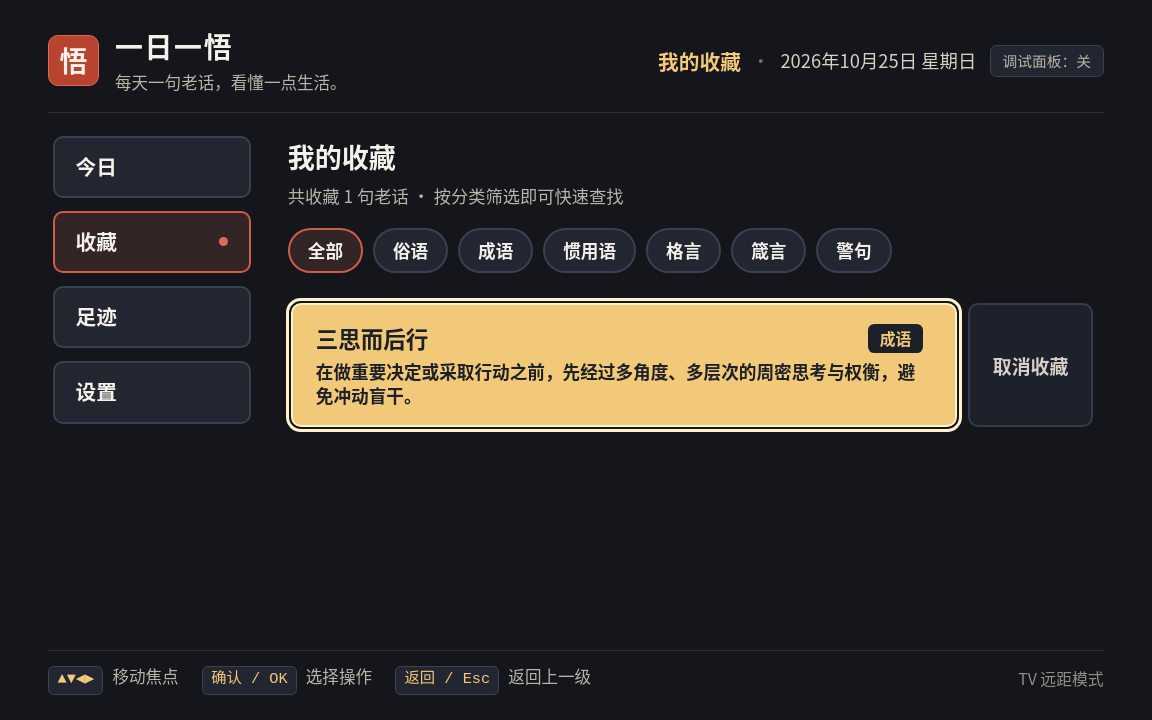
Test: 全流程遥控器操作闭环 (App Integration) › 延伸阅读卡片直接跳转，遥控器跟随单列或双列布局（?tv=1，1 列）
The image size is (1152, 720).
Click the button "三思而后行 成语 在做重要决定或采取行动之前，先经过多角度、多层次的周密思考与权衡，避免冲动盲干。" at (624, 365), box [291, 303, 957, 427]
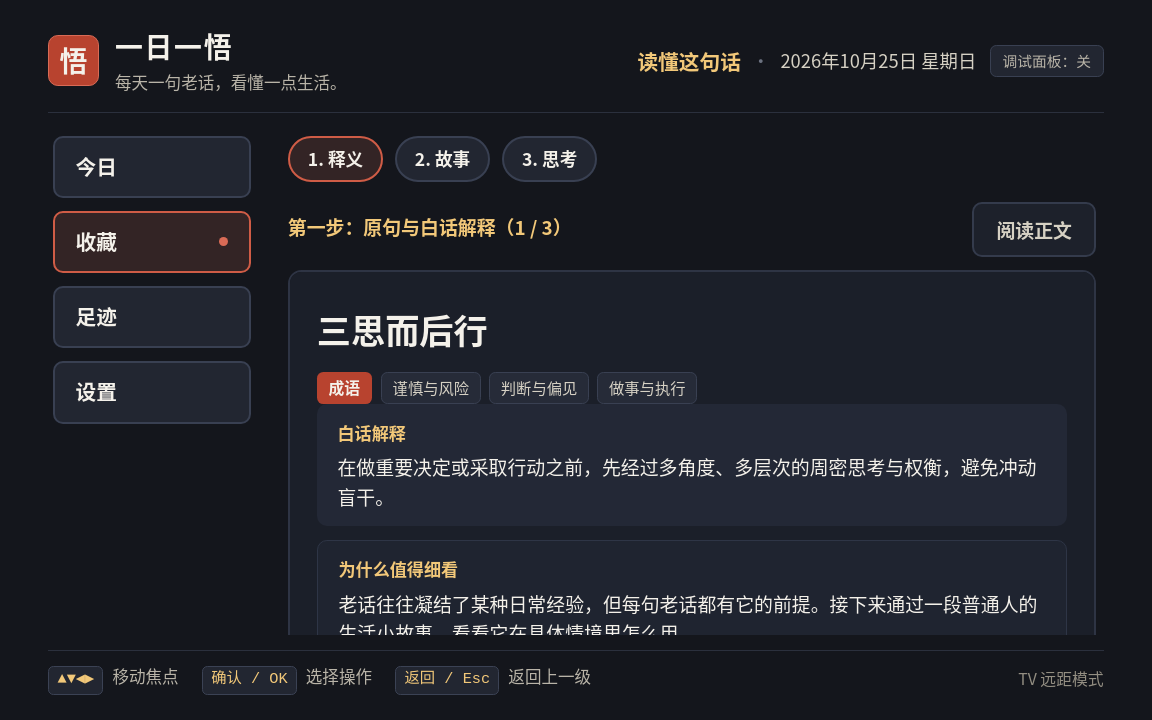
Click the button "3. 思考" at (550, 159), box [502, 136, 597, 182]
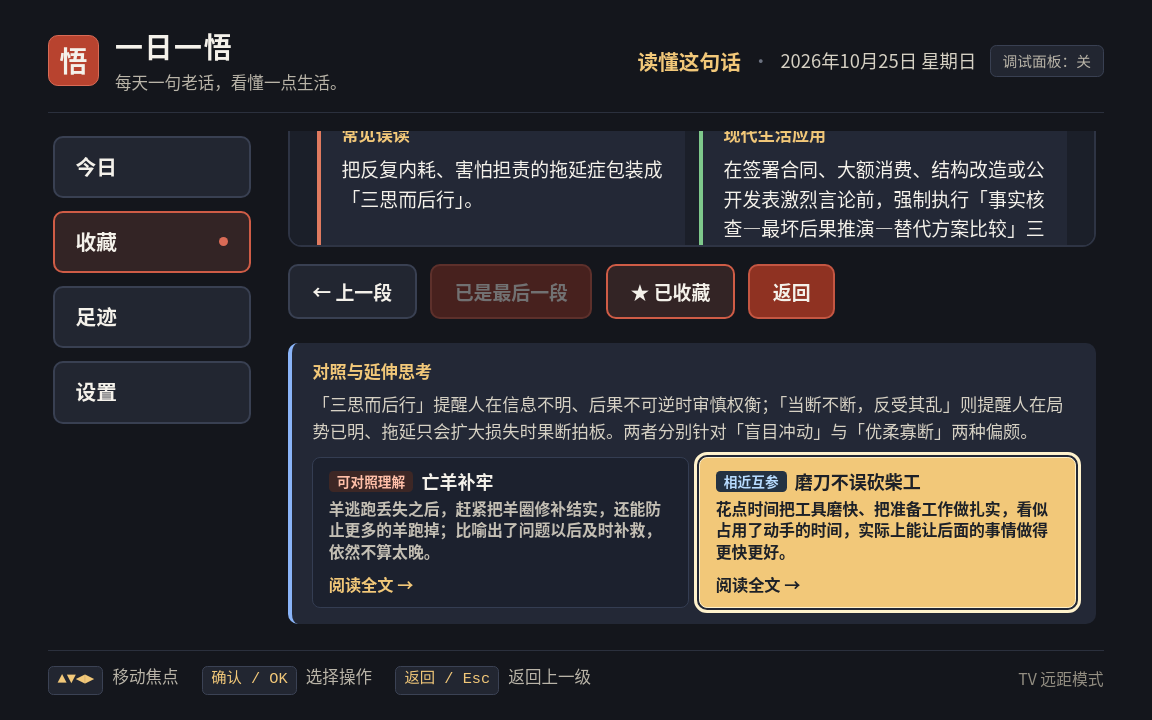
Expected: the number of buttons with class "relation-card" is 2
Click the button with class "relation-card" that starts with "相近互参" at (888, 532), box [700, 456, 1076, 608]
(page scrolled)
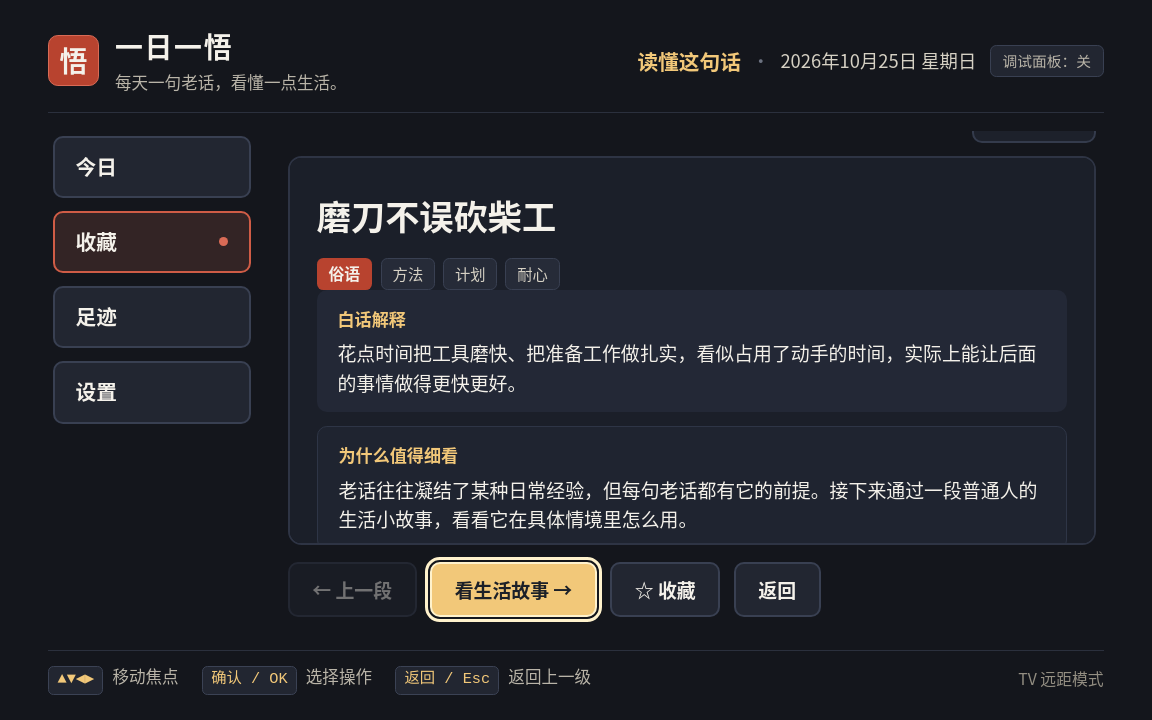
Expected: the heading with test id "detail-proverb-title" reads "磨刀不误砍柴工", [317, 190, 556, 240]
Click the button "返回" at (777, 590), box [734, 562, 820, 617]
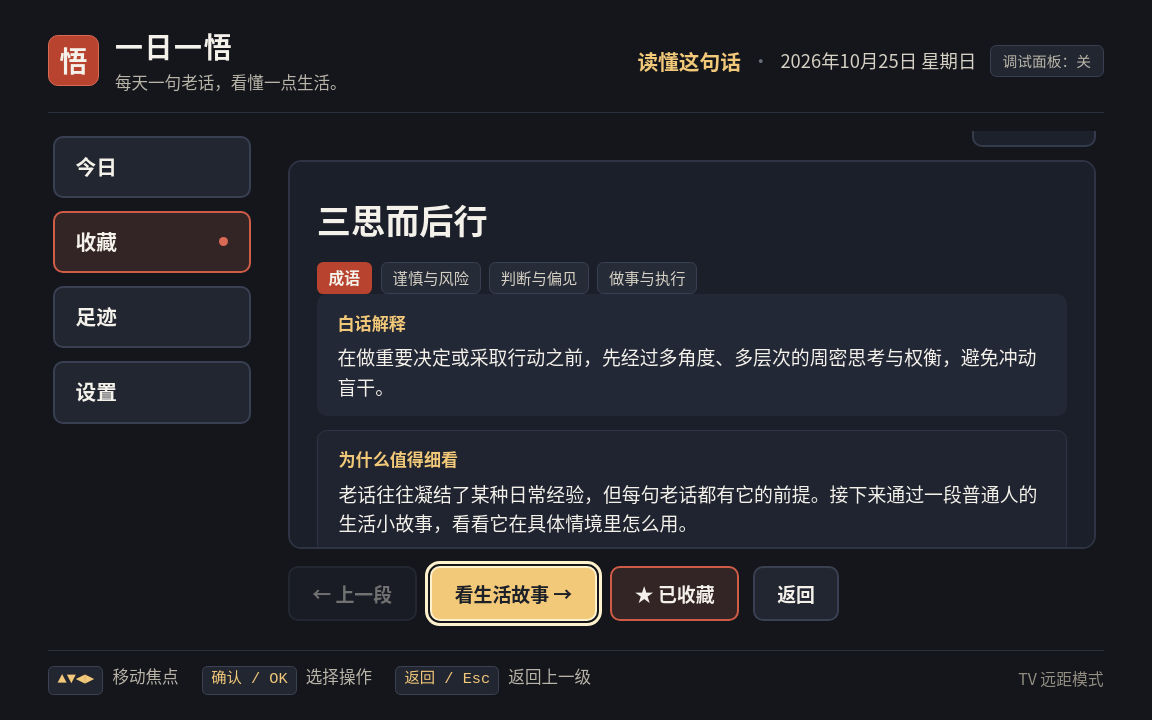
Expected: the heading with test id "detail-proverb-title" reads "三思而后行", [317, 194, 488, 244]
